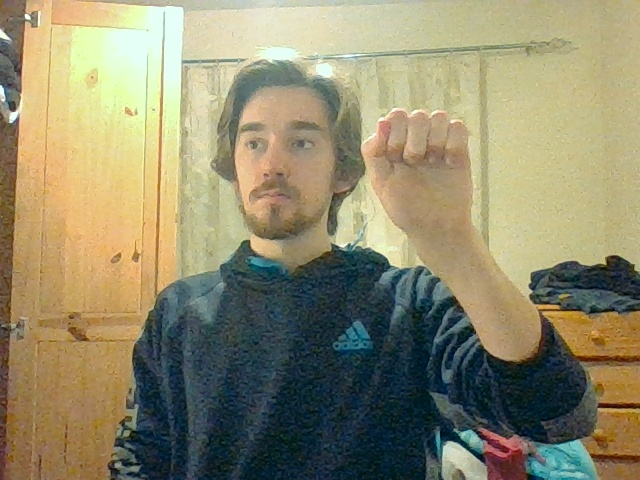your: (362, 108, 475, 227)
